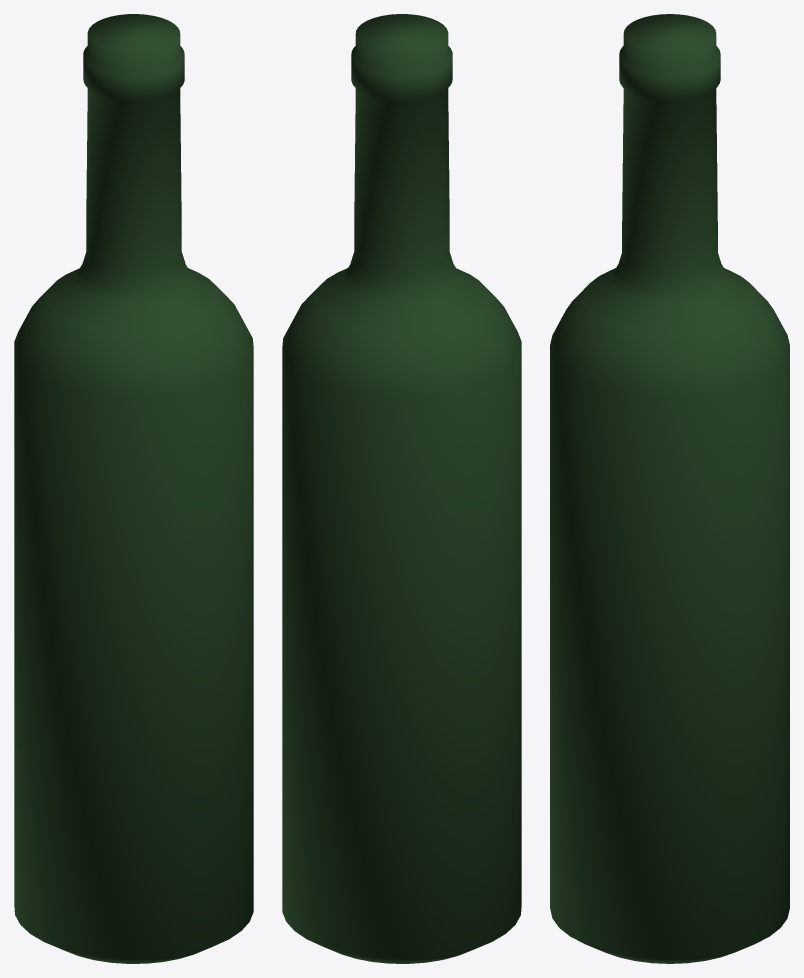
File: botella3.fbx
3 renders of one model, left to right at view 1: azimuth 30°, elevation 25°; view 2: azimuth 150°, elevation 25°; view 3: azimuth 270°, elevation 25°, orthographic.
Visible parts, largest first — view 1: Cylinder; view 2: Cylinder; view 3: Cylinder.
Part boxes in pixels (bbox=[...]): Cylinder: bbox=[14, 14, 253, 963]; Cylinder: bbox=[282, 14, 521, 963]; Cylinder: bbox=[550, 14, 789, 963].
Bounding box in the file's own units: 269 × 1112 × 269.
